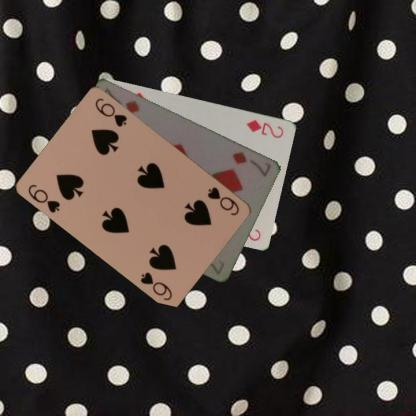2d: (244, 117, 285, 139)
6s: (204, 184, 241, 218), (25, 181, 62, 214)
7d: (230, 148, 273, 178)
